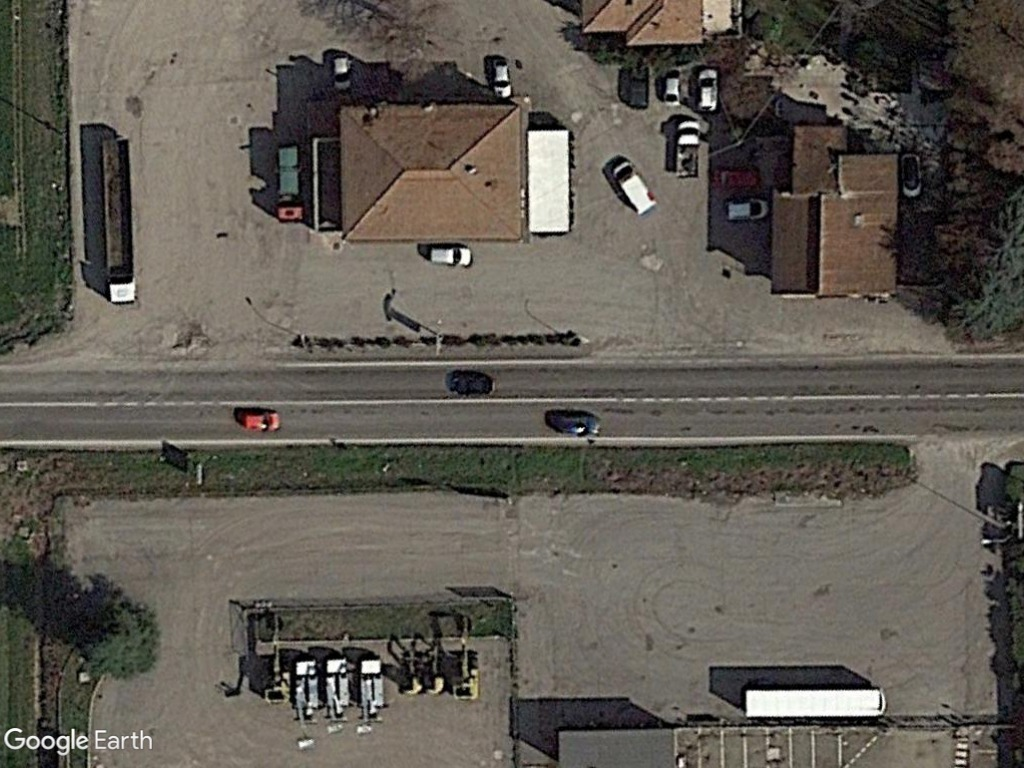car: (421, 241, 481, 271), (696, 61, 724, 120), (722, 194, 774, 224), (488, 53, 517, 101), (239, 408, 288, 435), (658, 65, 685, 112), (329, 51, 357, 95)
longvehicle: (736, 683, 891, 724)
other: (95, 126, 146, 311), (272, 138, 314, 228)
truck: (671, 115, 707, 182)
van: (608, 152, 661, 217)
